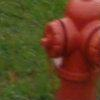Hydrant: (33, 3, 100, 99)
